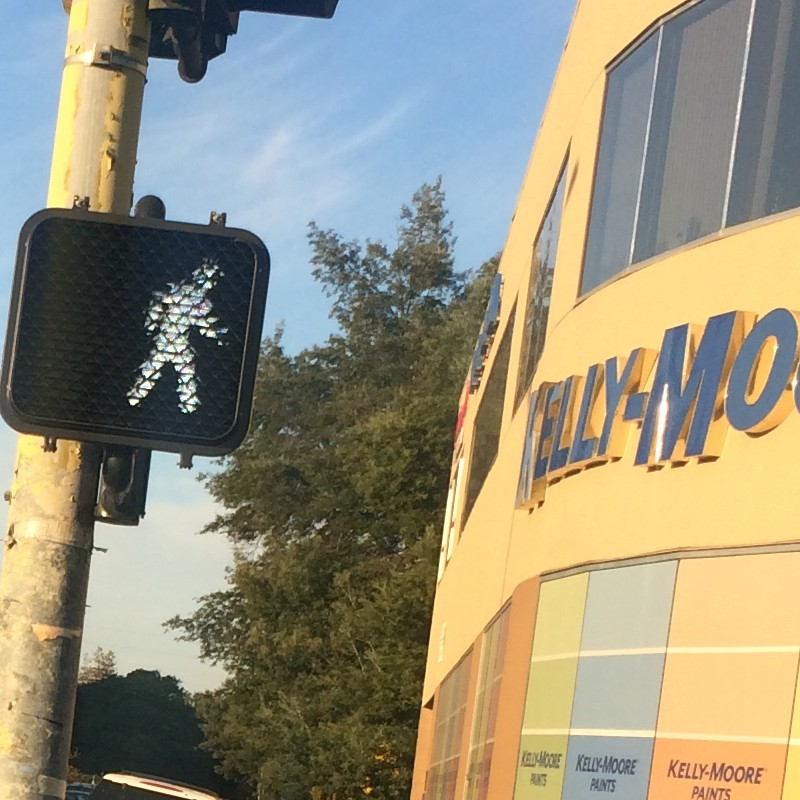go: (1, 208, 269, 461)
